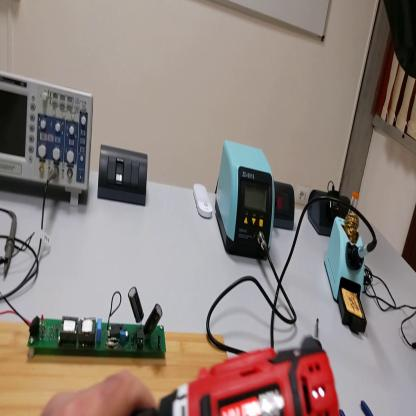electric screwdriver: (137, 340, 344, 416)
hand: (41, 368, 158, 415)
high voltage board: (2, 290, 169, 356)
oscilloscope: (2, 70, 95, 209)
oscilloscope probe tip: (4, 217, 20, 277)
pliers: (339, 401, 374, 416)
screwdriver-: (317, 316, 322, 344)
socket: (306, 183, 351, 236), (274, 180, 295, 233)
welder base: (325, 191, 377, 339)
welder probe tip: (351, 238, 377, 269)
welder station: (219, 141, 277, 263)
working area: (2, 320, 230, 415)
